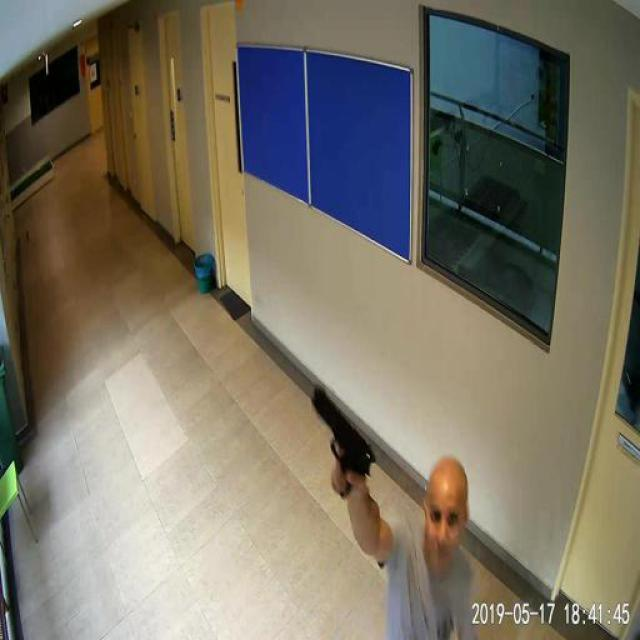weapon: (309, 382, 377, 500)
